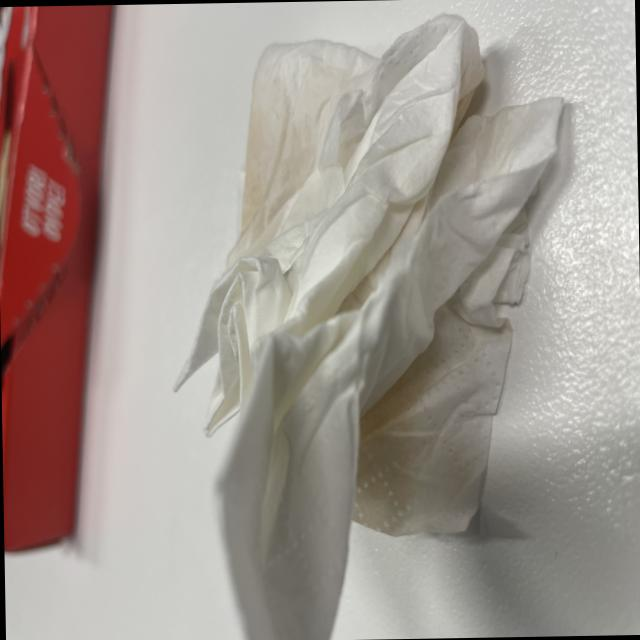organic waste: (165, 9, 577, 640)
